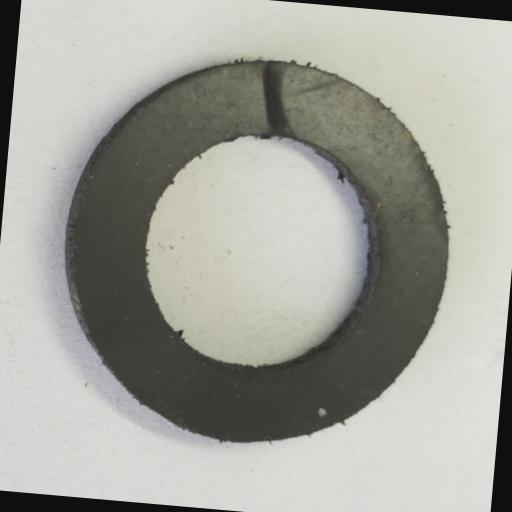defect: (254, 58, 301, 141)
